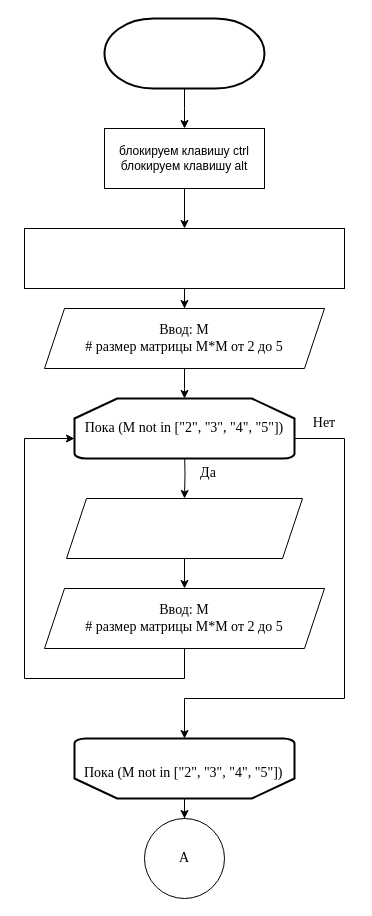
This 372x916 diagram has some shape labels left out. Here are the shapes that lost their labels. From the top down, the centre of each, then its label:
(x=184, y=53): Начало
(x=184, y=258): numbers = ["1", "2", "3", "4", "5", "6", "7", "8", "9"]
(x=184, y=528): Вывод: "Введите размер матрицы"
